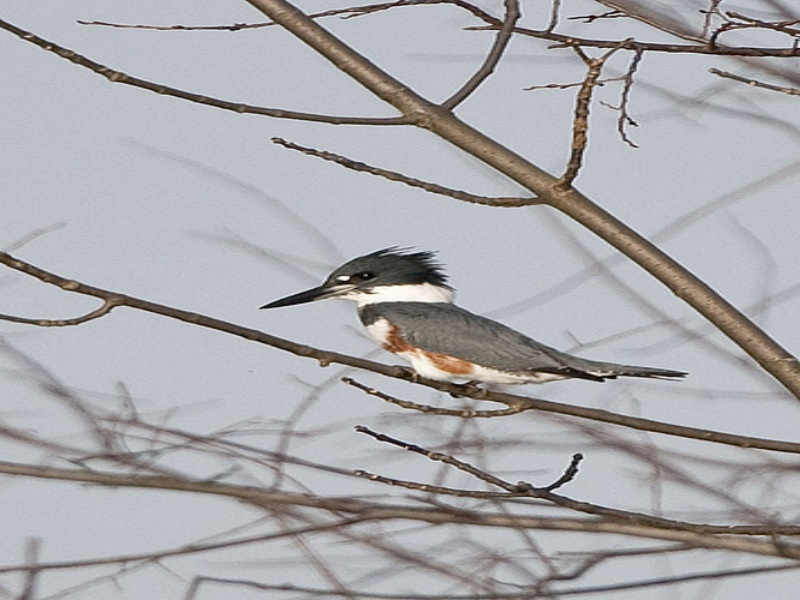kingfisher: (258, 242, 693, 415)
